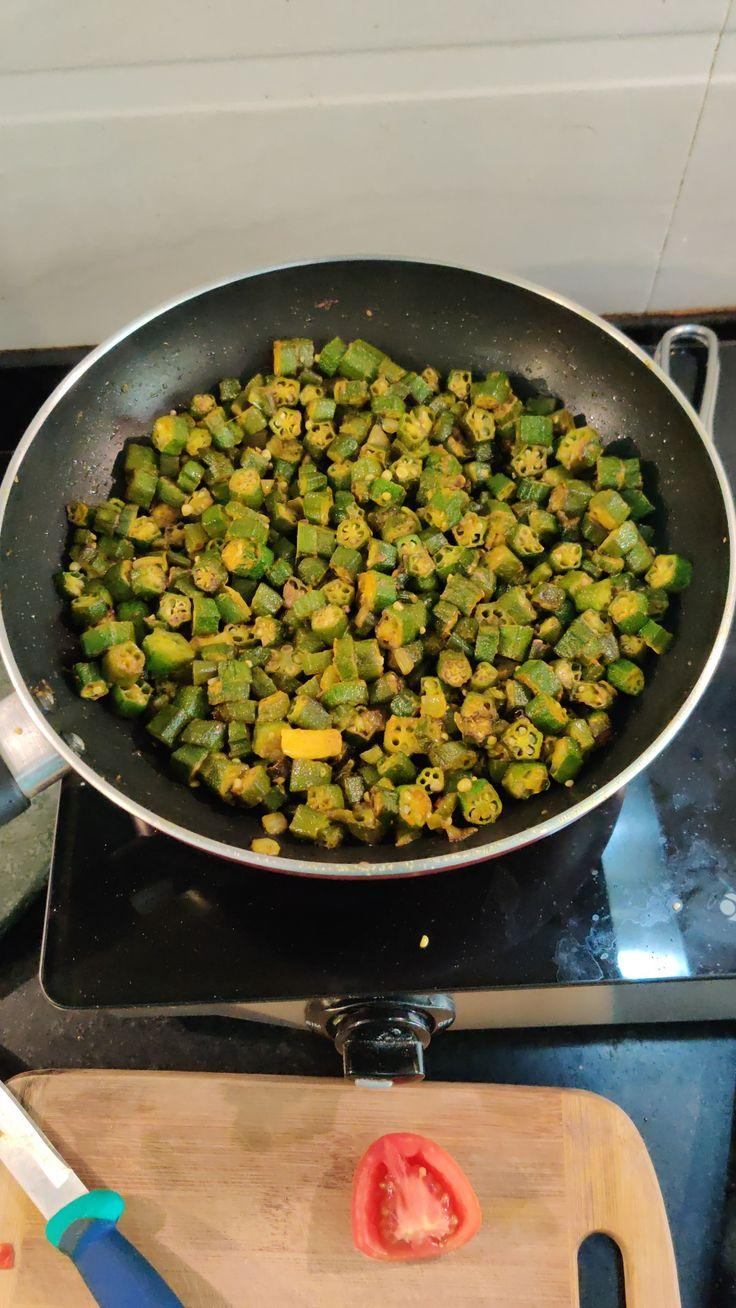bhindi: (132, 441, 612, 756)
